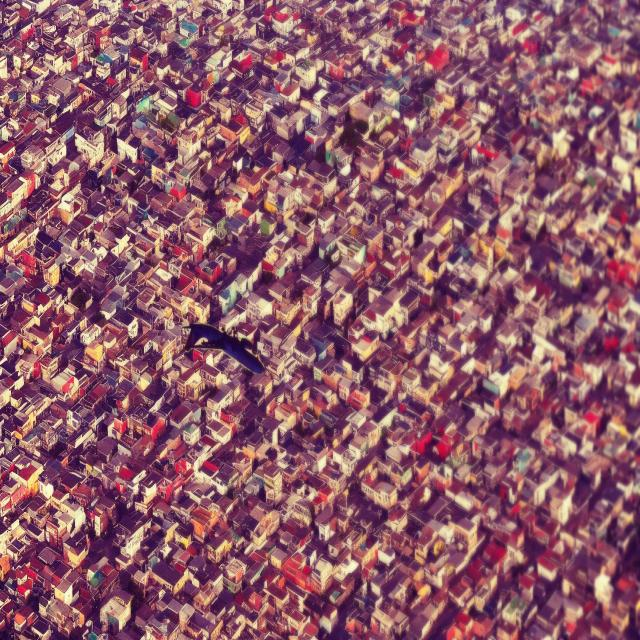airplane: (180, 320, 264, 374)
